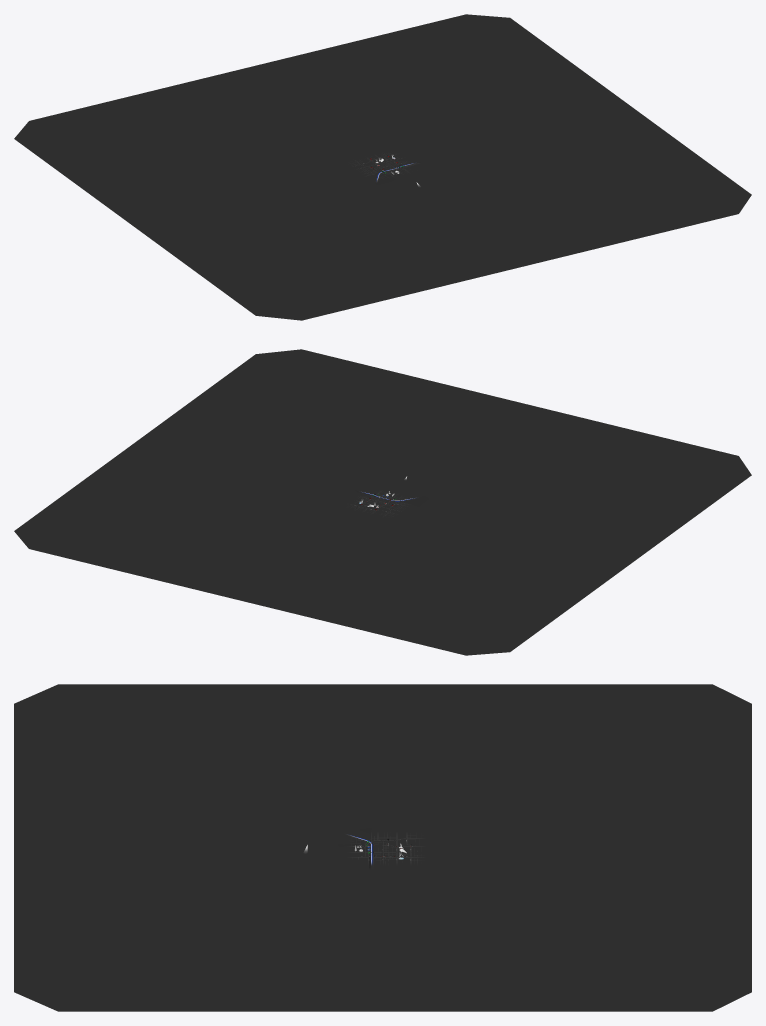
File: MAP_V5.glb
3 views of the same model, one above another, from view 1: azimuth 30°, elevation 25°; view 2: azimuth 150°, elevation 25°; view 3: azimuth 270°, elevation 25° (orthographic). The views are drawn at different scales.
Parts seen in each view (by area): view 1: object 1; view 2: object 1; view 3: object 1.
Boxes of the visible parts, <box> form: object 1: <box>14,14,751,320</box>; object 1: <box>14,349,751,655</box>; object 1: <box>14,684,751,1011</box>.
Size of the model in its own units: 215 by 3.33 by 205.
Materials: 28 (16 with a texture image).
